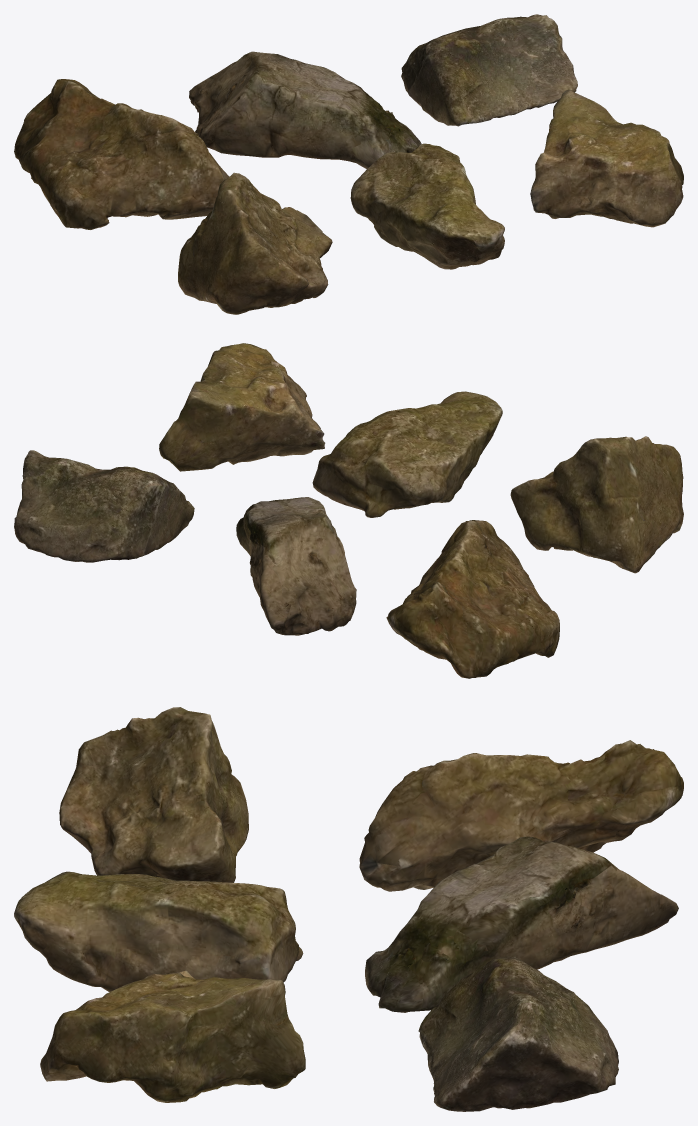
File: rock_moss_set_01.glb
3 renders of one model, top to bottom at view 1: azimuth 30°, elevation 25°; view 2: azimuth 150°, elevation 25°; view 3: azimuth 270°, elevation 25°, orthographic. The views are drawn at different scales.
Visible parts, largest first — view 1: rock_moss_set_01_rock01, rock_moss_set_01_rock02, rock_moss_set_01_rock06, rock_moss_set_01_rock04, rock_moss_set_01_rock03, rock_moss_set_01_rock05; view 2: rock_moss_set_01_rock04, rock_moss_set_01_rock01, rock_moss_set_01_rock05, rock_moss_set_01_rock03, rock_moss_set_01_rock06, rock_moss_set_01_rock02; view 3: rock_moss_set_01_rock01, rock_moss_set_01_rock02, rock_moss_set_01_rock05, rock_moss_set_01_rock06, rock_moss_set_01_rock04, rock_moss_set_01_rock03.
Boxes of the visible parts, left/top/right/bottom form: rock_moss_set_01_rock01: left=14, top=79, right=229, bottom=229; rock_moss_set_01_rock02: left=189, top=51, right=421, bottom=168; rock_moss_set_01_rock06: left=530, top=89, right=683, bottom=227; rock_moss_set_01_rock04: left=178, top=172, right=332, bottom=314; rock_moss_set_01_rock03: left=401, top=14, right=577, bottom=126; rock_moss_set_01_rock05: left=350, top=143, right=504, bottom=269; rock_moss_set_01_rock04: left=510, top=436, right=683, bottom=573; rock_moss_set_01_rock01: left=386, top=520, right=559, bottom=678; rock_moss_set_01_rock05: left=312, top=391, right=502, bottom=517; rock_moss_set_01_rock03: left=14, top=450, right=194, bottom=562; rock_moss_set_01_rock06: left=159, top=343, right=325, bottom=471; rock_moss_set_01_rock02: left=236, top=497, right=356, bottom=635; rock_moss_set_01_rock01: left=359, top=740, right=683, bottom=891; rock_moss_set_01_rock02: left=365, top=836, right=678, bottom=1012; rock_moss_set_01_rock05: left=14, top=871, right=303, bottom=991; rock_moss_set_01_rock06: left=40, top=970, right=305, bottom=1102; rock_moss_set_01_rock04: left=59, top=707, right=248, bottom=882; rock_moss_set_01_rock03: left=418, top=956, right=618, bottom=1111.
Bounding box in the file's own units: 8 × 1.77 × 6.94.
1 material, 1 textured.
